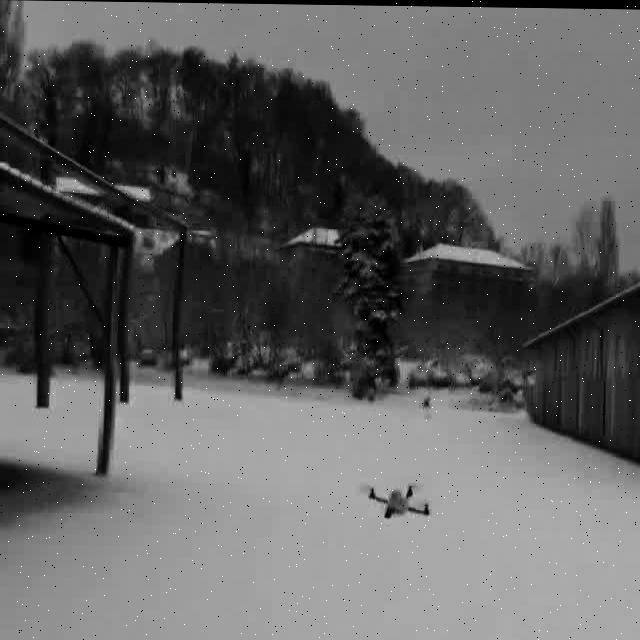drone: (349, 462, 442, 531)
